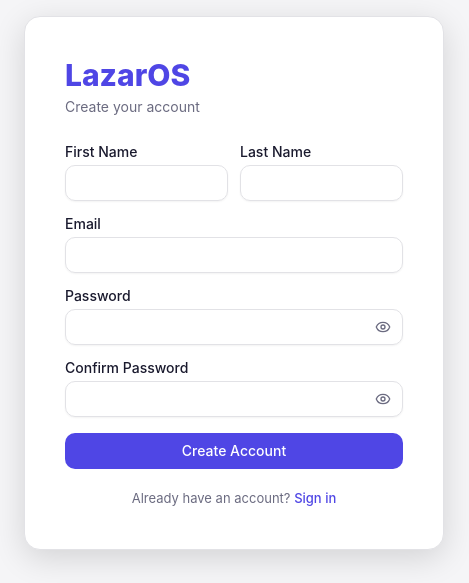
Test case: RegisterPage › disables the submit button and changes its copy while submitting
Type "Ada" into the field labelled "First Name" at (146, 183), box x1=65 y1=165 x2=228 y2=201
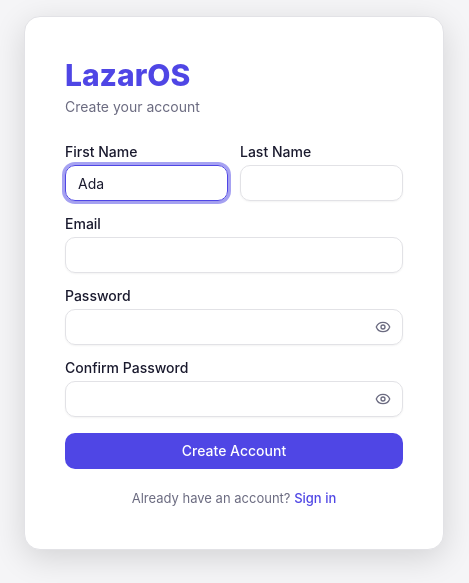
Type "Lovelace" into the field labelled "Last Name" at (322, 183), box x1=240 y1=165 x2=403 y2=201
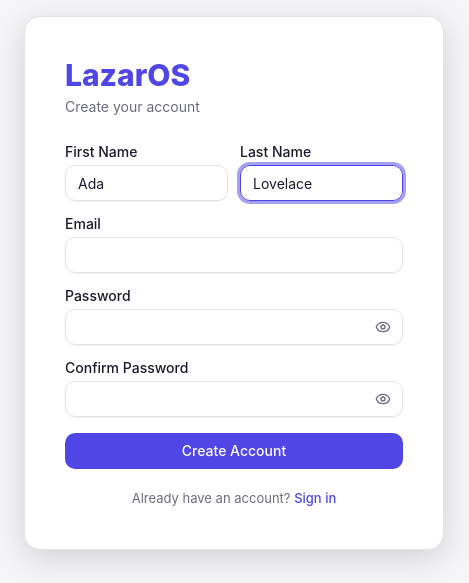
Type "ada@example.com" into the field labelled "Email" at (234, 255), box x1=65 y1=237 x2=403 y2=273
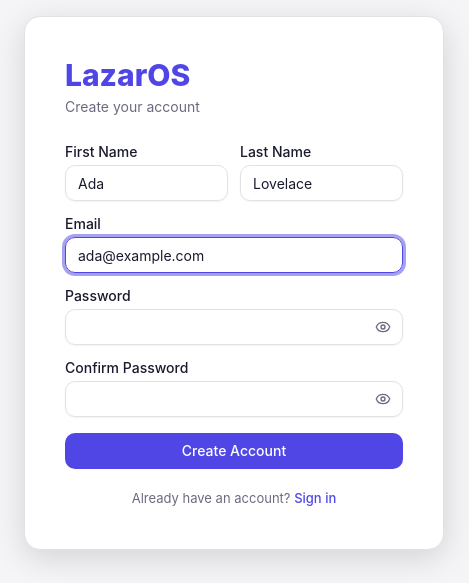
Type "Passw0rd!x" into the password field labelled "Password" at (234, 327), box x1=65 y1=309 x2=403 y2=345
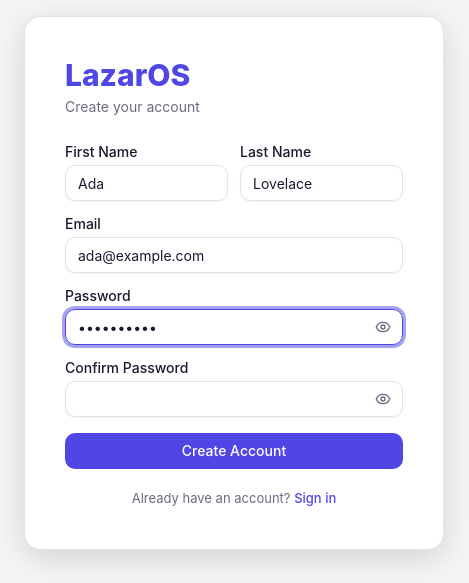
Type "Passw0rd!x" into the password field labelled "Confirm Password" at (234, 399), box x1=65 y1=381 x2=403 y2=417
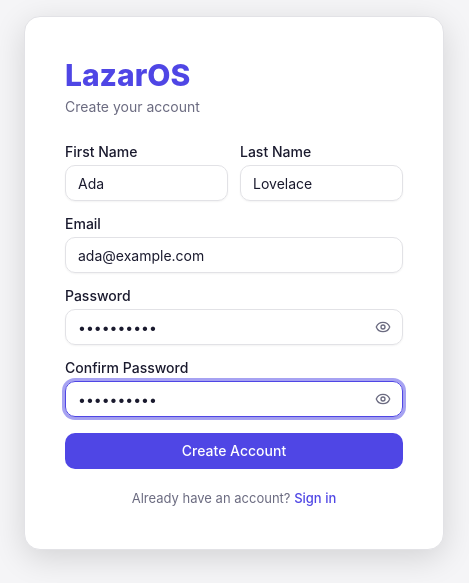
Click the button "Create Account" at (234, 451), box x1=65 y1=433 x2=403 y2=469
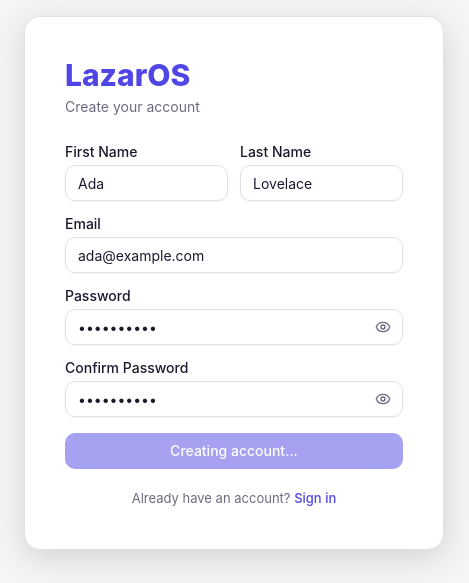
expect the button "Creating account..." is disabled: met, box x1=65 y1=433 x2=403 y2=469
